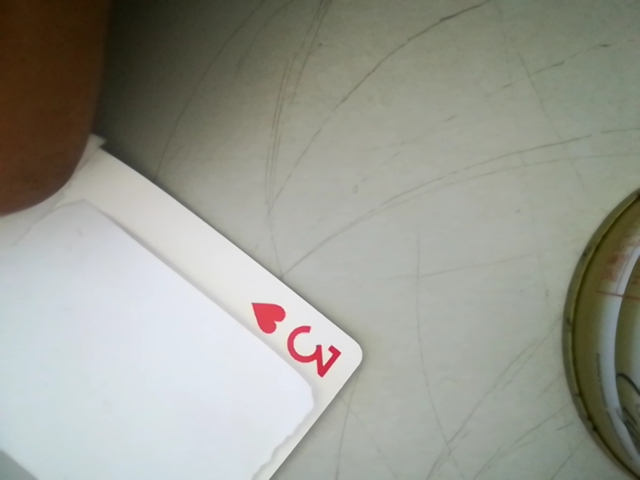hx 3: (248, 294, 353, 386)
